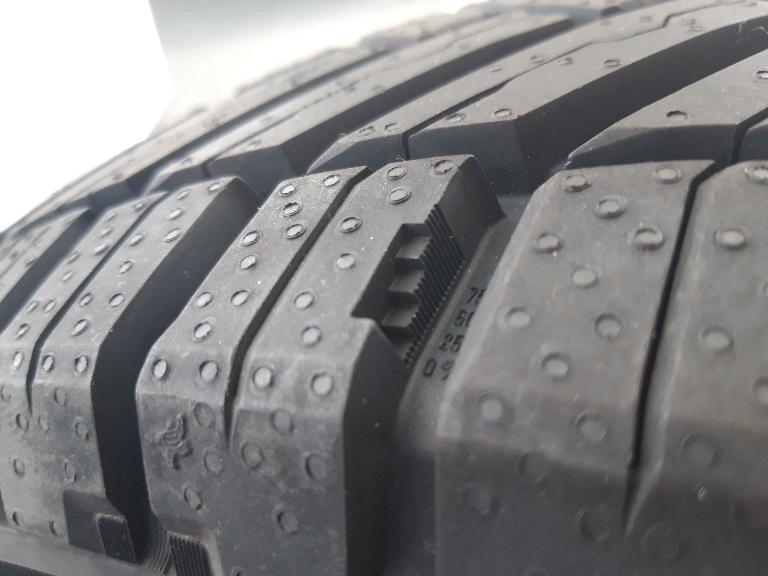temoin:100: (348, 202, 467, 372)
